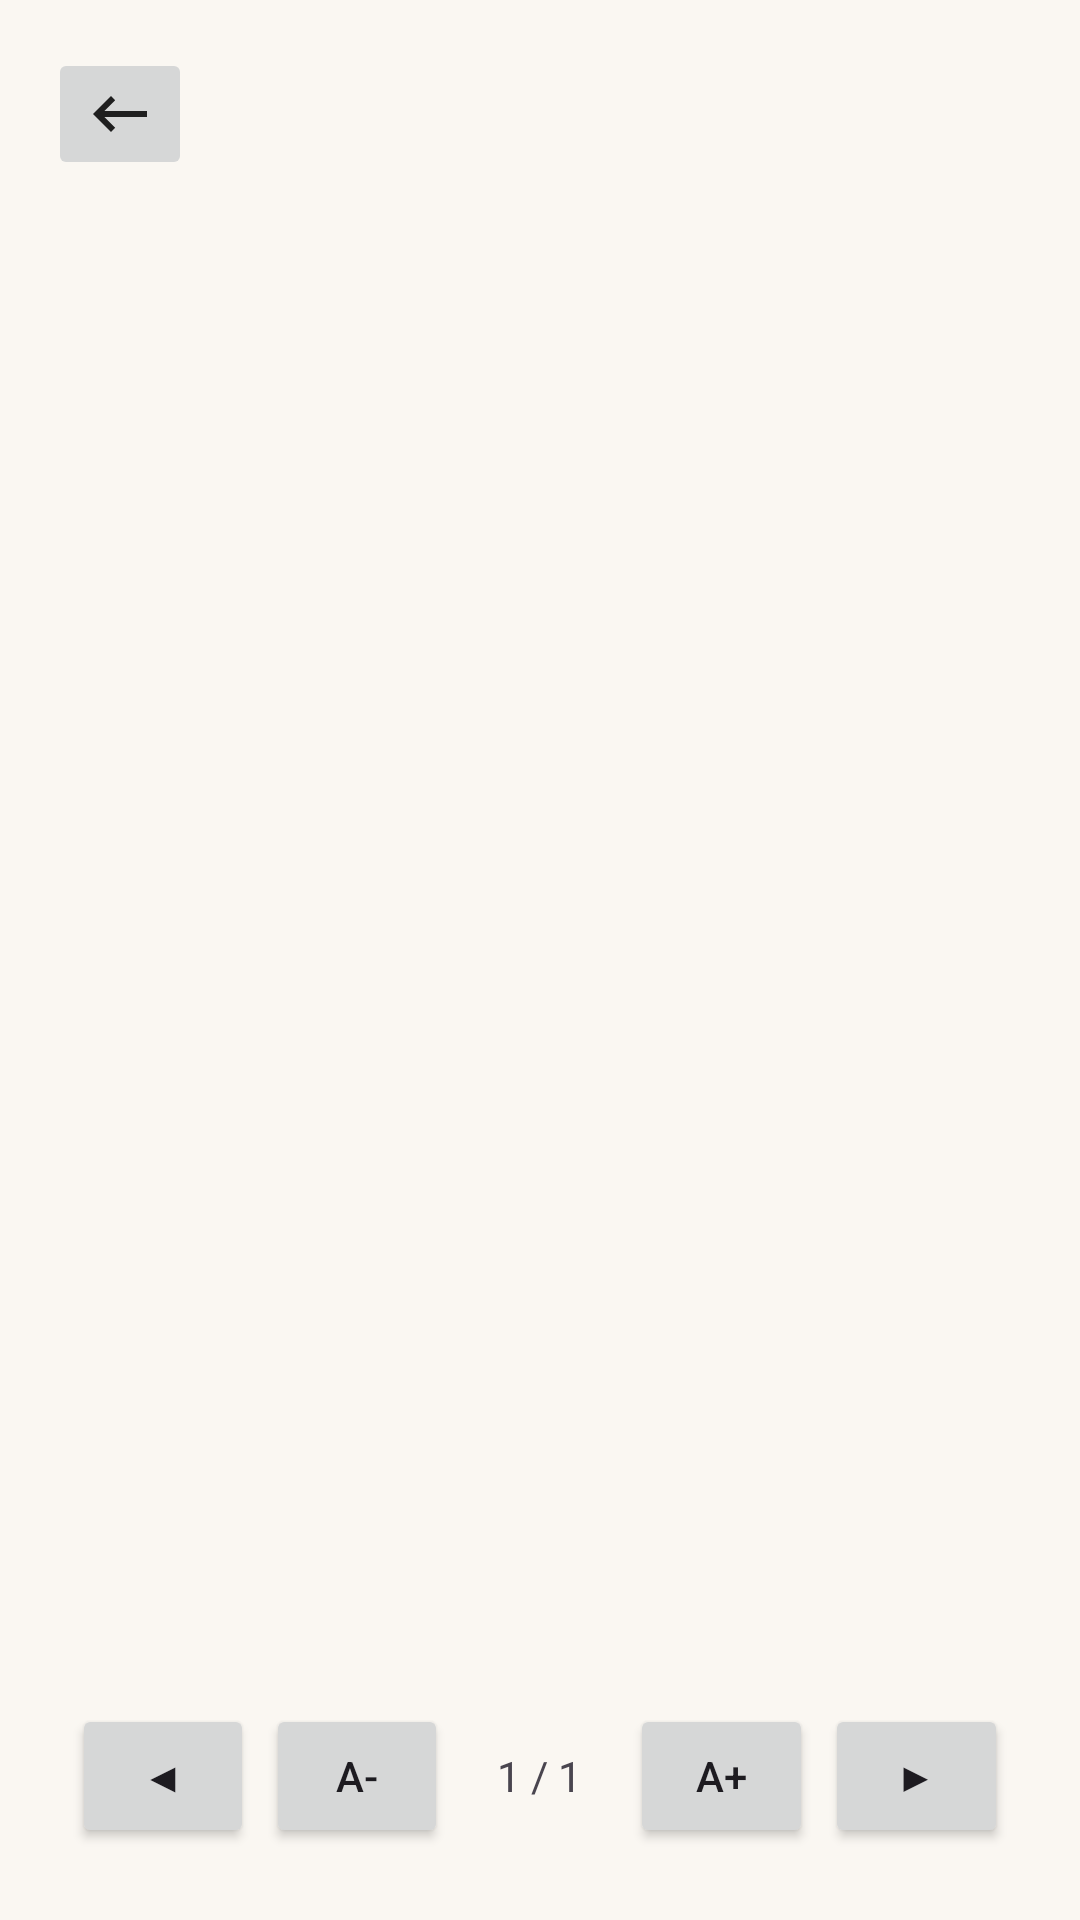

Icon click points for this 1080*1920 phone screenshot, format [x,y]:
back: [120,114]
